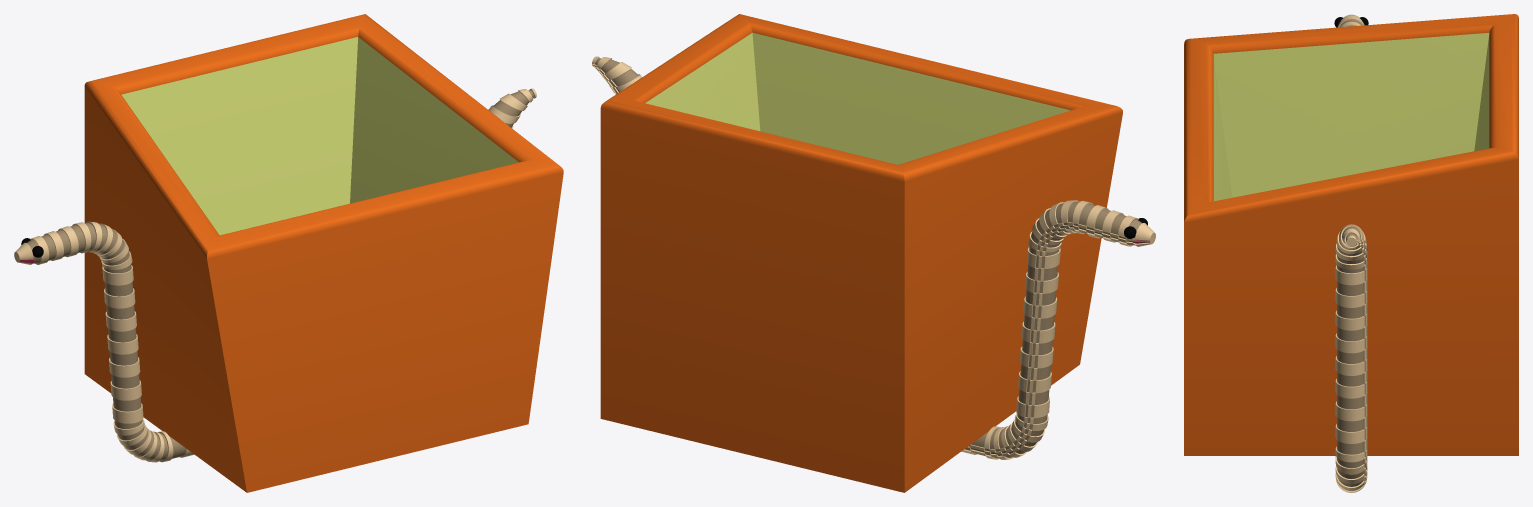
Rendered from Worm.fbx.
3 views of the same model, side by side, from view 1: azimuth 30°, elevation 25°; view 2: azimuth 150°, elevation 25°; view 3: azimuth 270°, elevation 25° (orthographic). The views are drawn at different scales.
Parts seen in each view (by area): view 1: Cylinder; view 2: Cylinder; view 3: Cylinder.
Part boxes in pixels (bbox=[...]): Cylinder: bbox=[14, 14, 563, 492]; Cylinder: bbox=[592, 14, 1155, 492]; Cylinder: bbox=[1184, 14, 1518, 492].
Size of the model in its own units: 8841 by 5224 by 4808.
